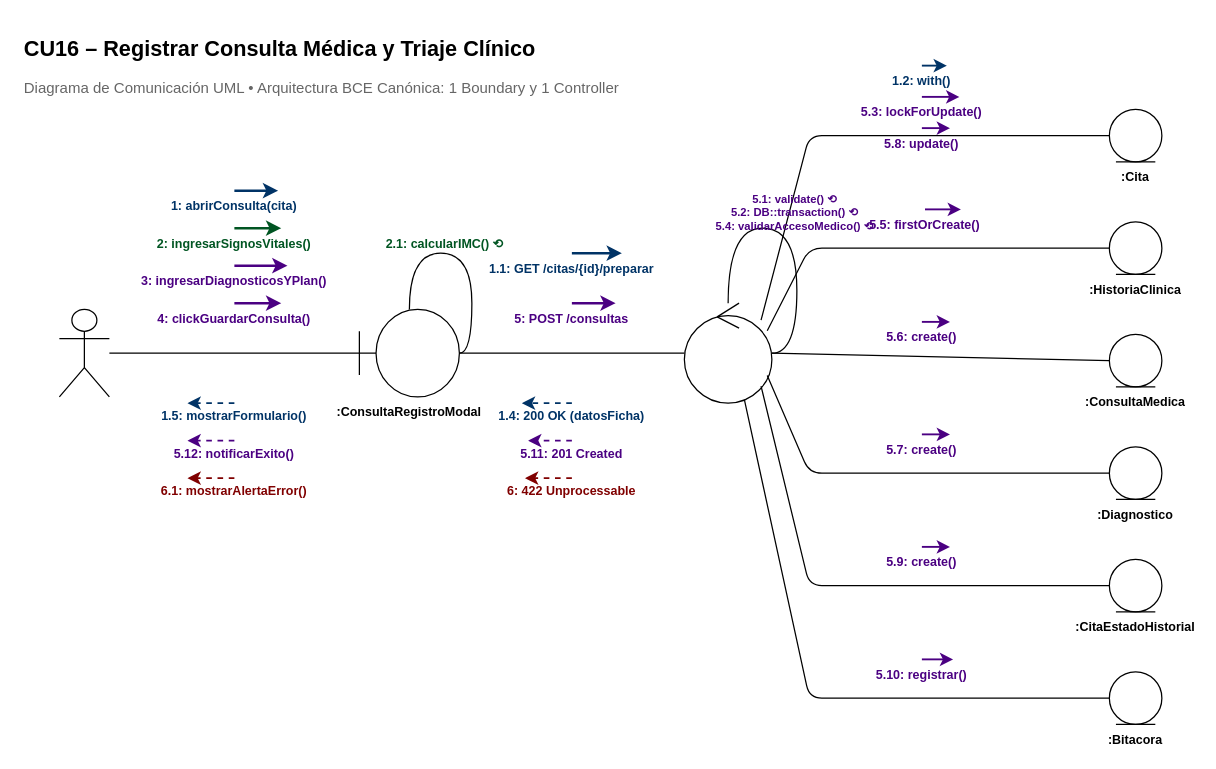
This 1216x769 diagram has some shape labels left out. The centre of each missing label's shape, as x and y in pixels:
":ConsultasController" belongs at point 727,352.
":Médico" belongs at point 83,352.
